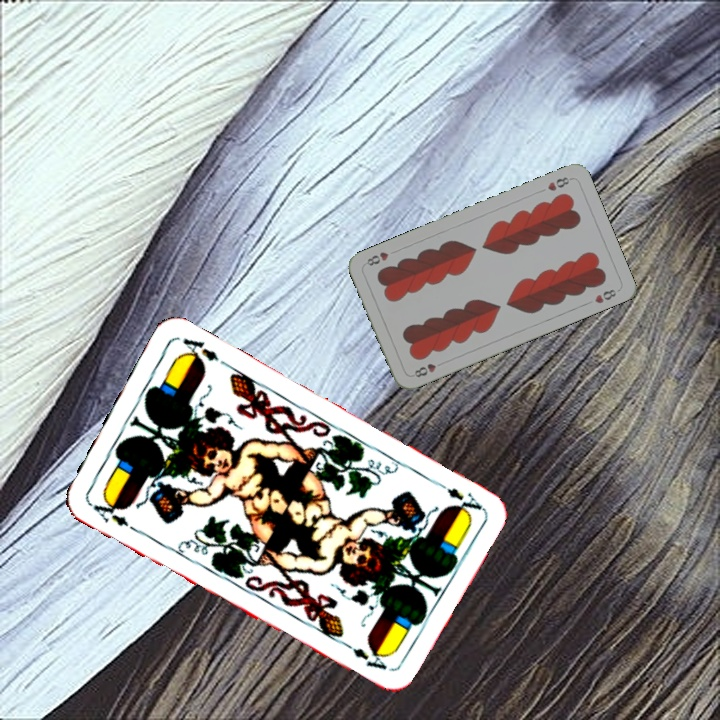EA: (430, 477, 484, 518), (85, 495, 139, 534)
H8: (410, 358, 447, 380), (543, 173, 574, 194)
